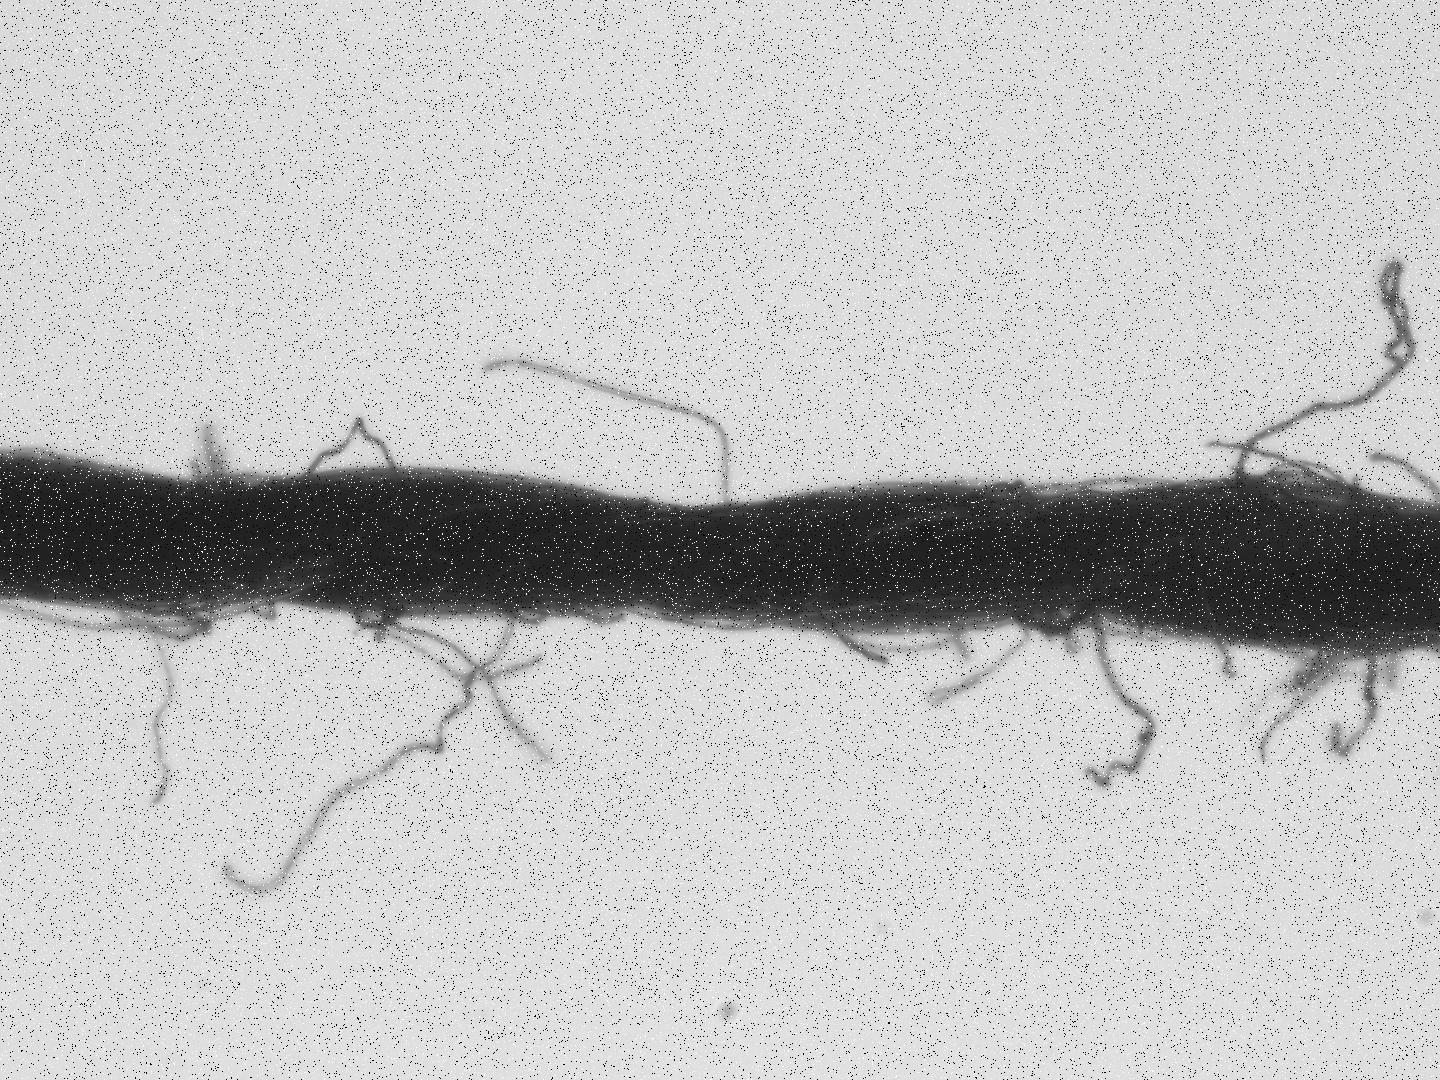loop_fiber: (2, 597, 285, 642), (820, 619, 1015, 661), (297, 414, 405, 476), (1269, 639, 1356, 694), (188, 424, 232, 480)
protruding_fiber: (217, 605, 523, 900), (476, 352, 743, 509), (1234, 255, 1413, 481), (384, 607, 556, 770), (1075, 606, 1159, 791), (346, 614, 550, 686), (111, 598, 177, 812), (1252, 642, 1342, 762), (922, 616, 1030, 704), (1200, 437, 1349, 486), (1327, 638, 1383, 758), (1370, 450, 1439, 504), (1210, 625, 1234, 682)
